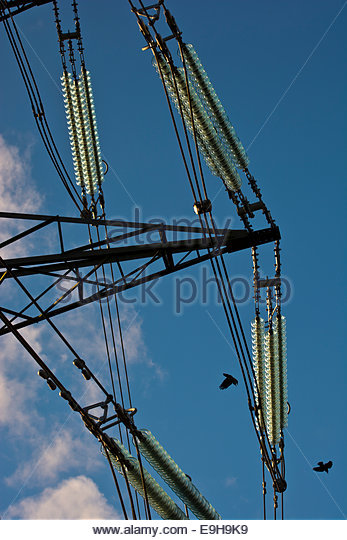isolator: (151, 43, 251, 190), (100, 428, 222, 520), (59, 69, 104, 194), (251, 315, 290, 443)
